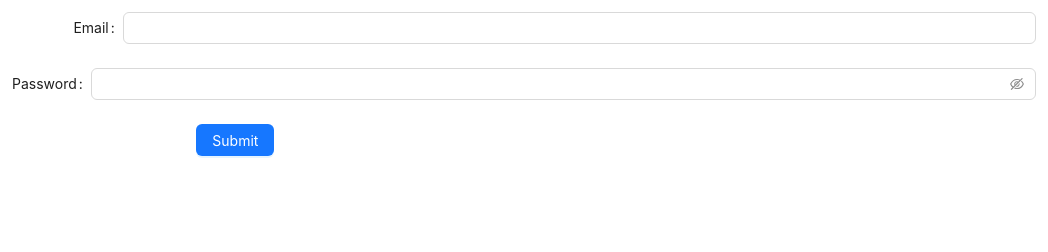
Test case: Form displays validation message if the email or password is blank
Expected: the field with test id "email" is empty, [123,12,1036,44]
Click the button with test id "submit".
click(235, 140)  # box [196,124,274,156]
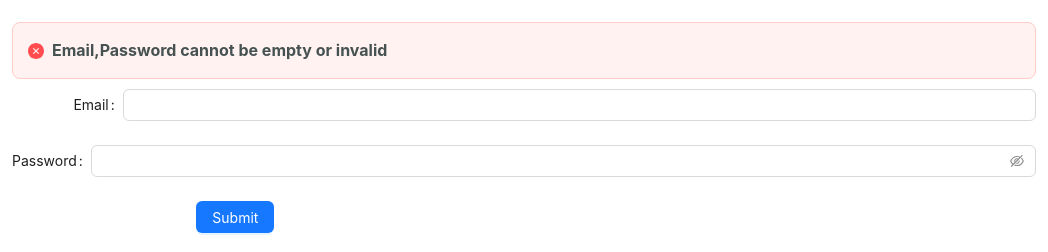
Expected: the message "Email,Password cannot be empty or invalid" is shown, [12,22,1036,79]
Expected: the message with test id "alertMsg" reads "Email,Password cannot be empty or invalid", [52,40,387,60]
